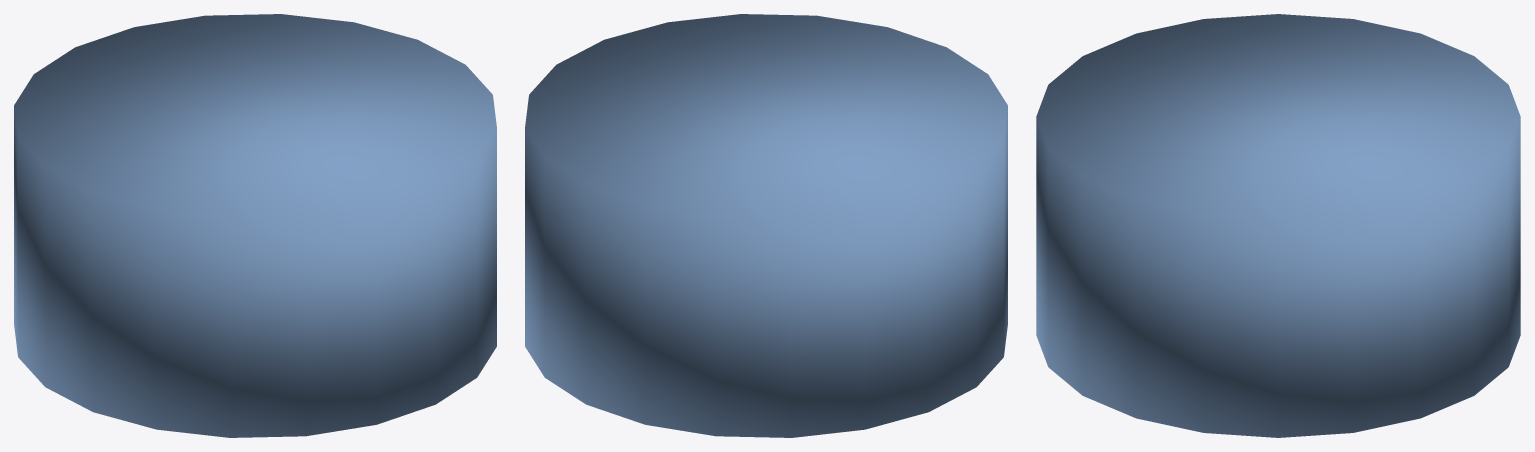
Rendered from KRM_M46_ROOM_unit_cyl_Sapphire_stone.fbx.
3 views of the same model, side by side, from view 1: azimuth 30°, elevation 25°; view 2: azimuth 150°, elevation 25°; view 3: azimuth 270°, elevation 25° (orthographic).
Parts seen in each view (by area): view 1: KRM_M46_ROOM_unit_cyl_Sapphire_stone; view 2: KRM_M46_ROOM_unit_cyl_Sapphire_stone; view 3: KRM_M46_ROOM_unit_cyl_Sapphire_stone.
Boxes of the visible parts, box(x1,y1,x2,y2) form: KRM_M46_ROOM_unit_cyl_Sapphire_stone: box(14, 14, 496, 437); KRM_M46_ROOM_unit_cyl_Sapphire_stone: box(525, 14, 1007, 437); KRM_M46_ROOM_unit_cyl_Sapphire_stone: box(1036, 14, 1520, 437).
Bounding box in the file's own units: 200 × 100 × 200.
Materials: 1 (1 with a texture image).
